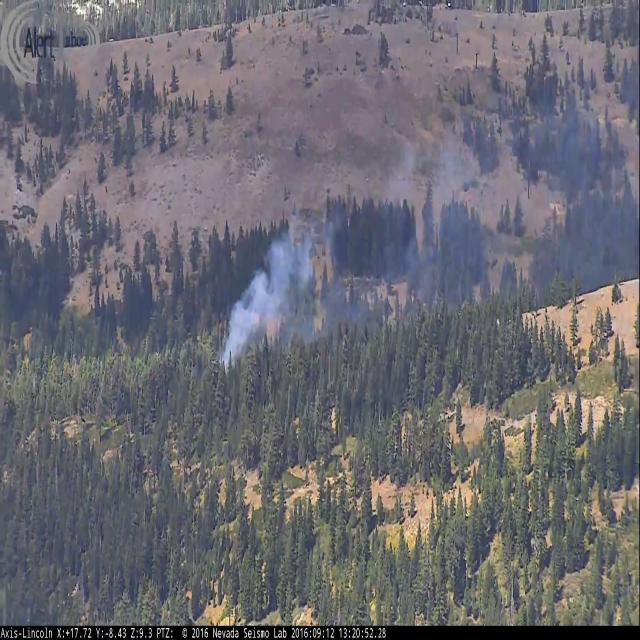smoke: (222, 90, 640, 368)
